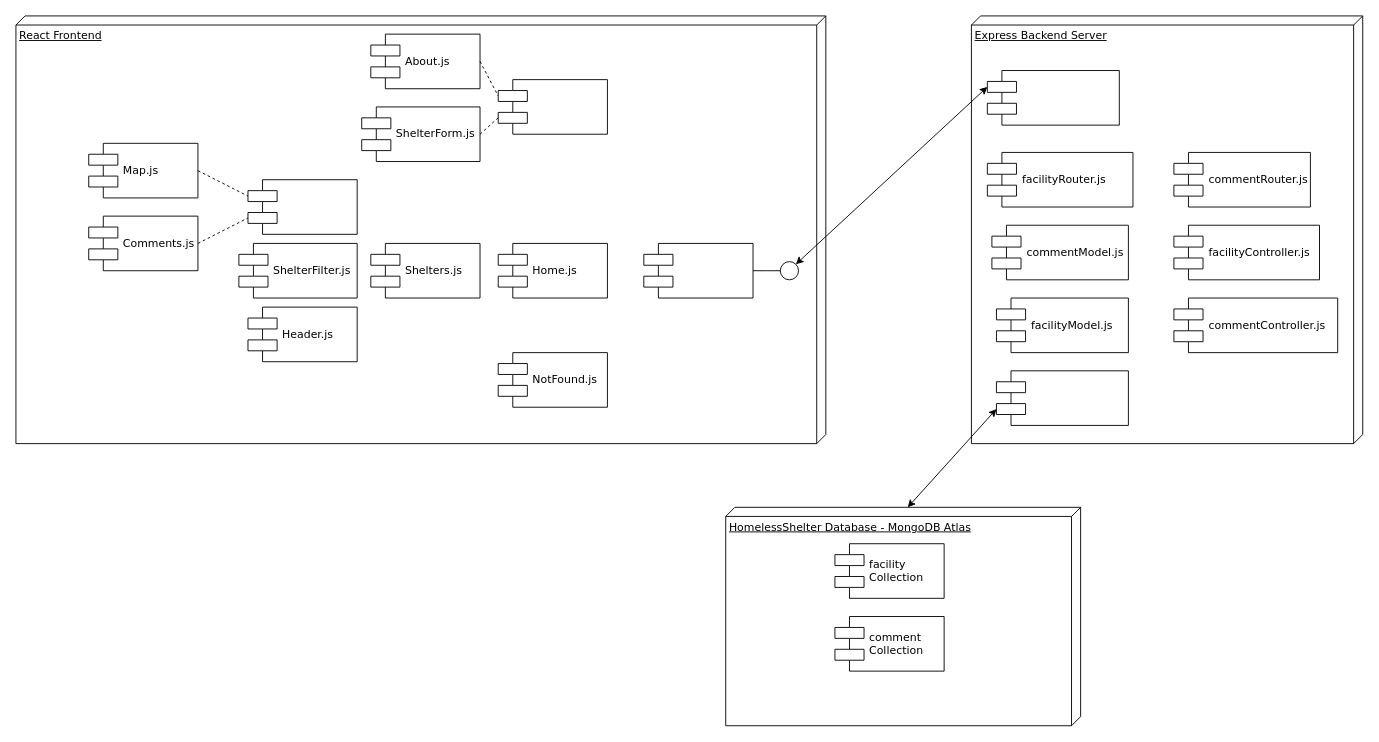
The diagram is 1379 pixels wide and 742 high, and some of its shapes have lost their labels. The shapes that lost their labels are listed below. From the top down, each one's centre as x and y in pixels, then its label:
At [552,106]: "Nav.js".
At [1052,97]: "Server.js".
At [302,206]: "Details.js".
At [698,270]: "App.js".
At [1062,397]: "db.js".
